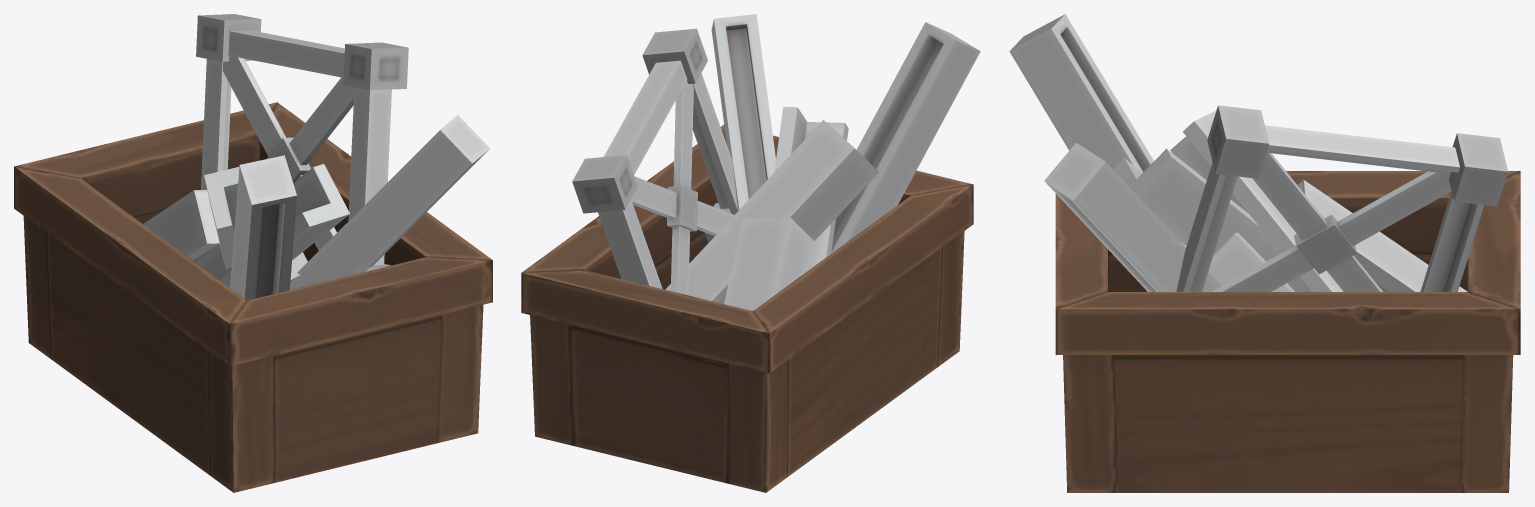
Rendered from Prfb_Toolbox__2.fbx.
3 views of the same model, side by side, from view 1: azimuth 30°, elevation 25°; view 2: azimuth 150°, elevation 25°; view 3: azimuth 270°, elevation 25° (orthographic). The views are drawn at different scales.
Parts seen in each view (by area): view 1: Mat_StreetAssets01_2, Mat_SteelFrame_01; view 2: Mat_StreetAssets01_2, Mat_SteelFrame_01; view 3: Mat_StreetAssets01_2, Mat_SteelFrame_01.
Boxes of the visible parts, box(x1,y1,x2,y2) form: Mat_StreetAssets01_2: box(14, 102, 492, 492); Mat_SteelFrame_01: box(143, 14, 489, 300); Mat_StreetAssets01_2: box(521, 124, 973, 492); Mat_SteelFrame_01: box(572, 14, 980, 310); Mat_StreetAssets01_2: box(1055, 171, 1520, 492); Mat_SteelFrame_01: box(1009, 14, 1507, 291).
Bounding box in the file's own units: 0.8757 × 1.06 × 1.34.
Materials: 2 (2 with a texture image).
